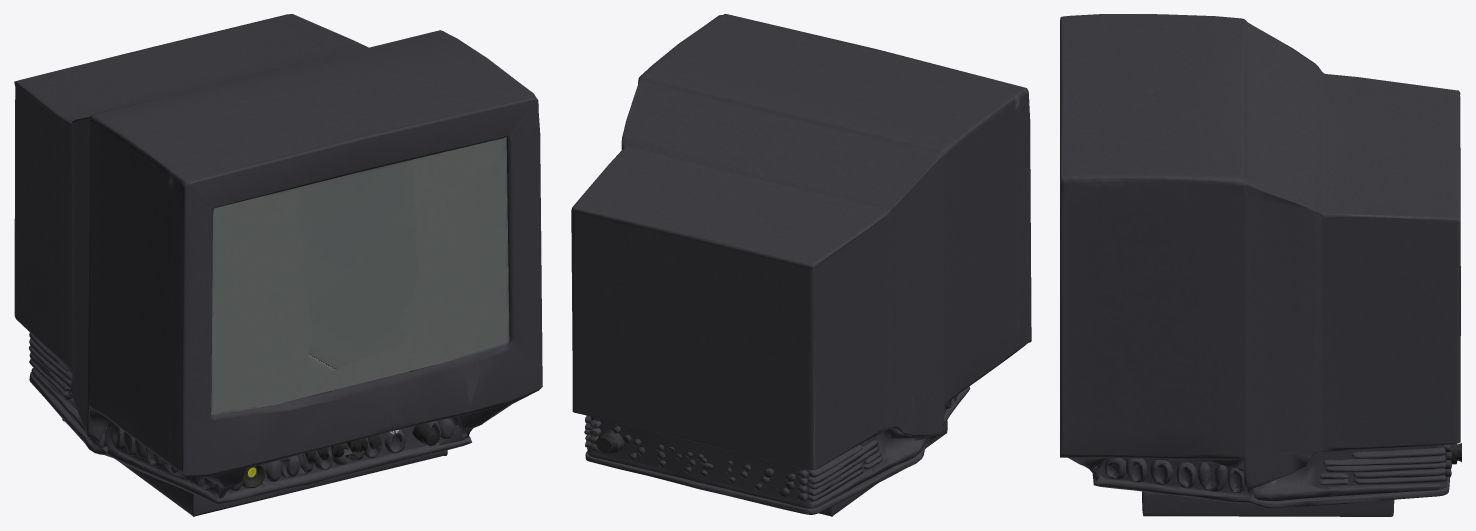
The model's file is Meshy_AI_Vintage_CRT_Televisio_1006183650_texture.fbx.
The picture shows the model from 3 angles, left to right: view 1: azimuth 30°, elevation 25°; view 2: azimuth 150°, elevation 25°; view 3: azimuth 270°, elevation 25°; orthographic projection. The views are drawn at different scales.
Parts seen in each view (by area): view 1: Mesh_0; view 2: Mesh_0; view 3: Mesh_0.
Boxes of the visible parts, <box> form: Mesh_0: <box>14,14,542,516</box>; Mesh_0: <box>571,14,1031,516</box>; Mesh_0: <box>1060,14,1461,516</box>.
Bounding box in the file's own units: 98.38 × 99.66 × 100.
Materials: 1 (1 with a texture image).
